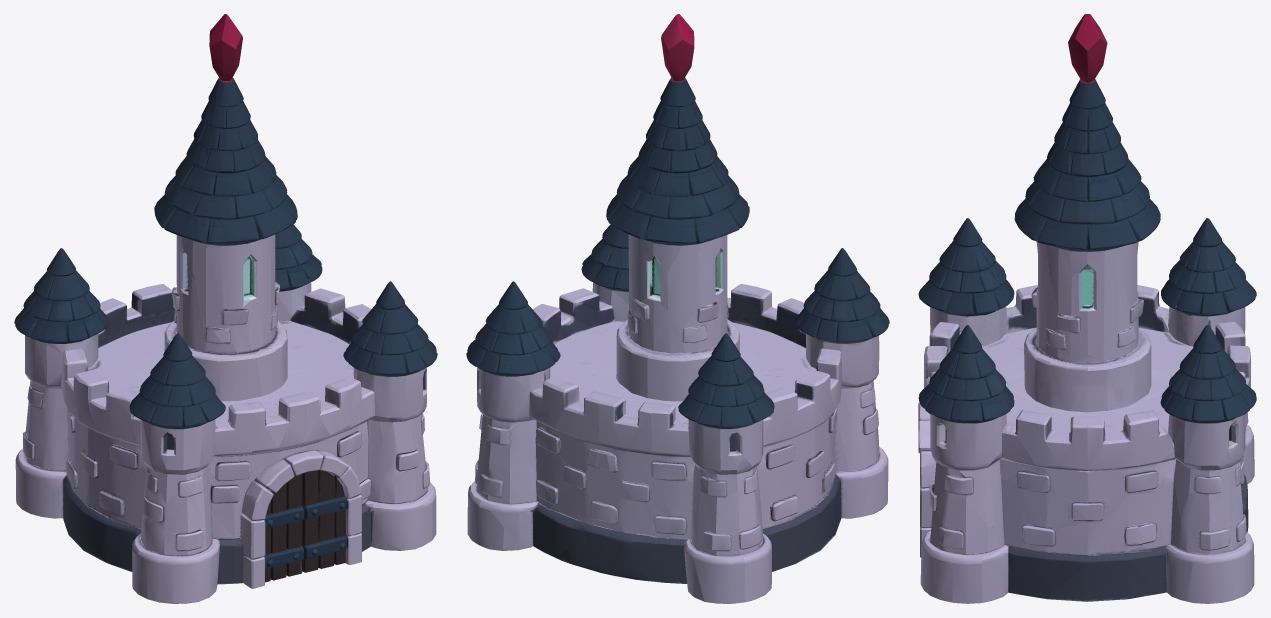
The model's file is body.glb.
3 renders of one model, left to right at view 1: azimuth 30°, elevation 25°; view 2: azimuth 150°, elevation 25°; view 3: azimuth 270°, elevation 25°, orthographic. The views are drawn at different scales.
Size of the model in its own units: 1.18 by 1.9 by 1.13.
1 material, 1 textured.
